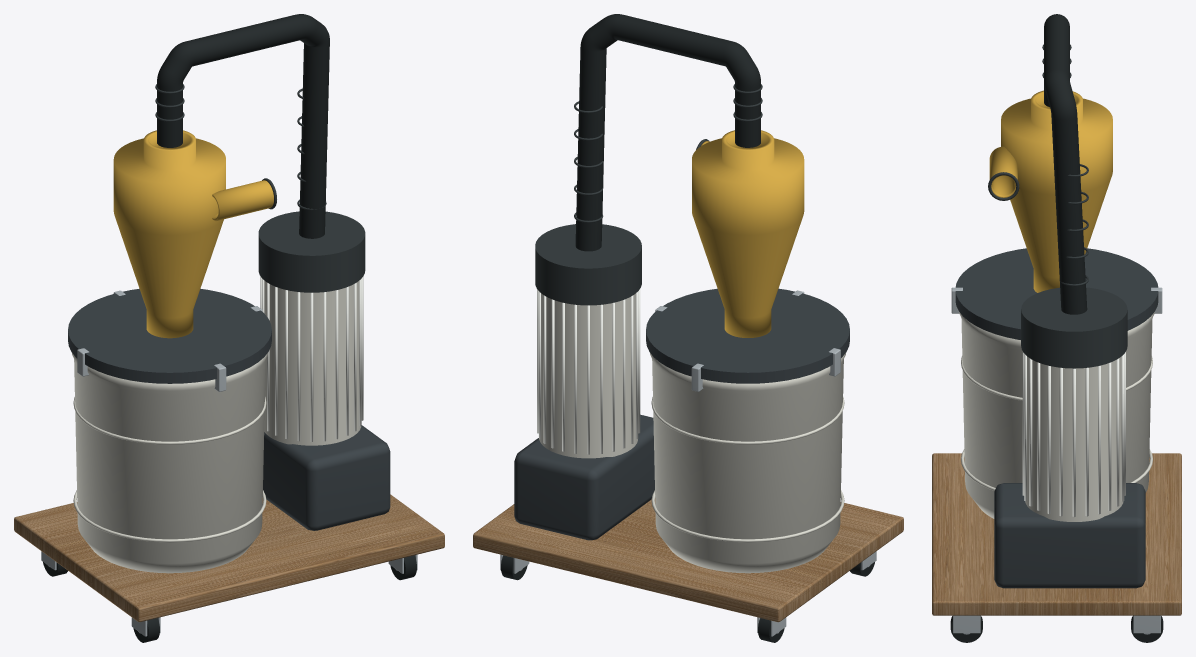
File: garage-cyclone-extractor.glb
3 renders of one model, left to right at view 1: azimuth 30°, elevation 25°; view 2: azimuth 150°, elevation 25°; view 3: azimuth 270°, elevation 25°, orthographic.
Parts seen in each view (by area): view 1: catalog_surface_RealismUV, catalog_surface_UVMap; view 2: catalog_surface_RealismUV, catalog_surface_UVMap; view 3: catalog_surface_RealismUV, catalog_surface_UVMap.
Part boxes in pixels (x1,y1,x2,y2): catalog_surface_RealismUV: (41,14,417,642); catalog_surface_UVMap: (14,494,444,622); catalog_surface_RealismUV: (500,14,876,642); catalog_surface_UVMap: (473,498,903,622); catalog_surface_RealismUV: (950,14,1163,642); catalog_surface_UVMap: (932,453,1181,615).
Bounding box in the file's own units: 0.65 × 1.1 × 0.46.
Materials: 8 (1 with a texture image).
